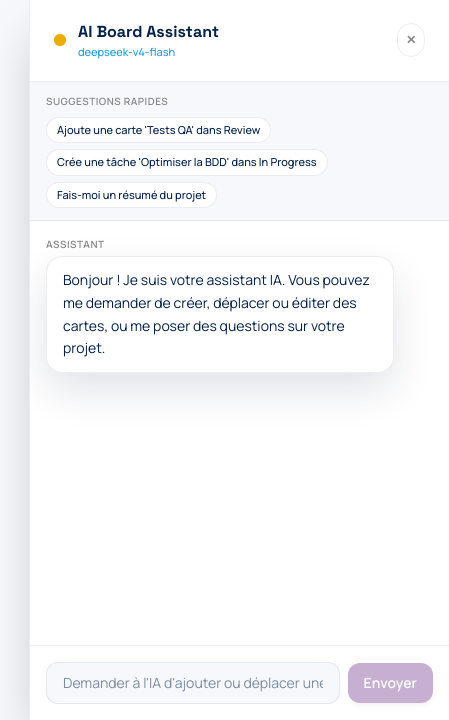
Test: KanbanChatSidebar › sends user message and receives assistant response with board update
Type "Ajoute une carte" into the field with placeholder "Demander à l'IA d'ajouter ou déplacer une carte..." at (193, 683), box left=46, top=662, right=340, bottom=704
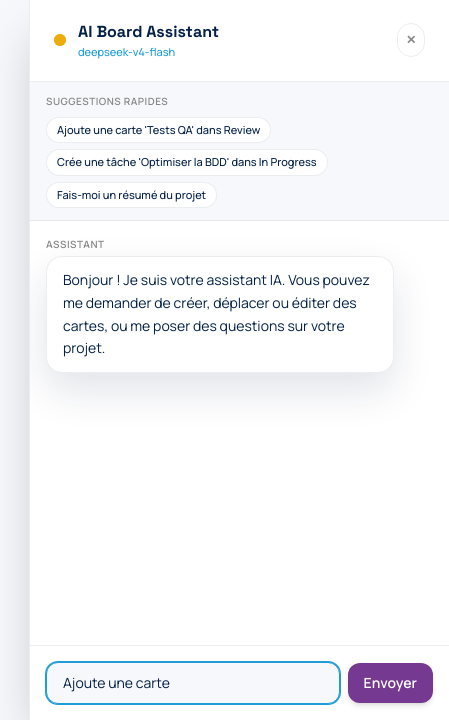
Click the button "Envoyer" at (390, 683), box left=348, top=663, right=433, bottom=703
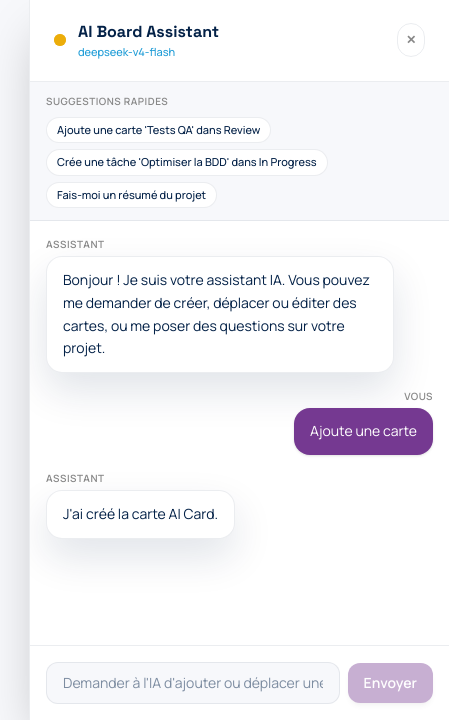
Check: the text "J'ai créé la carte AI Card." is shown, box left=63, top=503, right=218, bottom=526
